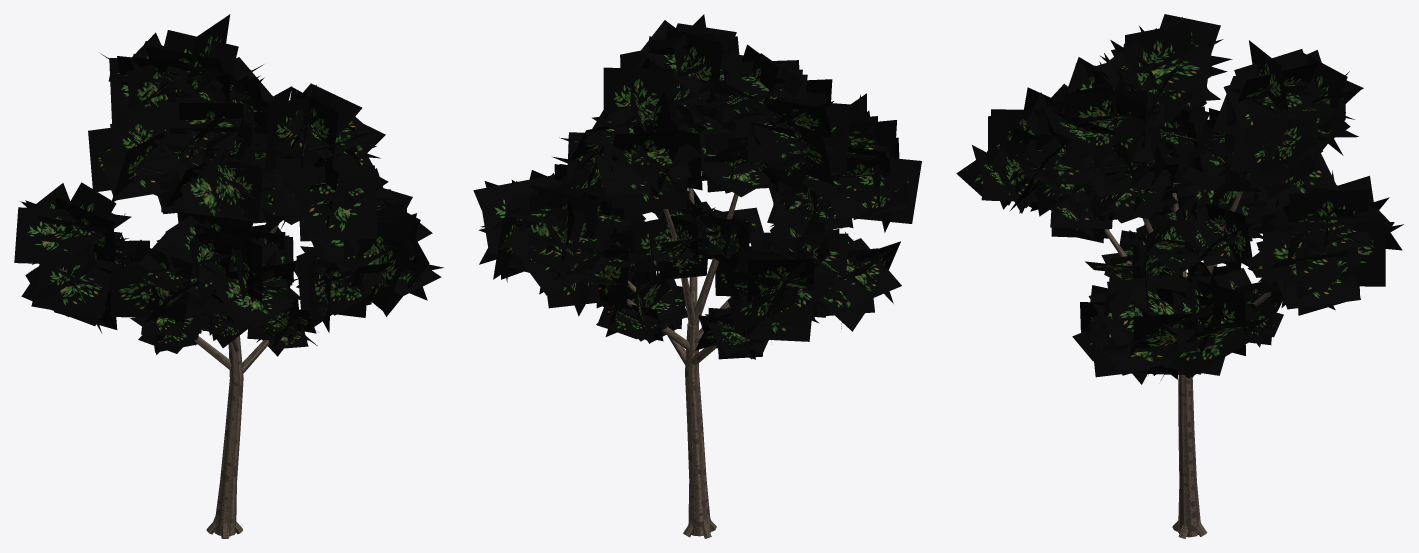
File: pohon_mahoni_super_besar.glb
The picture shows the model from 3 angles, left to right: view 1: azimuth 30°, elevation 25°; view 2: azimuth 150°, elevation 25°; view 3: azimuth 270°, elevation 25°; orthographic projection. The views are drawn at different scales.
Parts seen in each view (by area): view 1: Daun_Pinnate_Mahoni, Batang_Dan_Dahan_Mahoni; view 2: Daun_Pinnate_Mahoni, Batang_Dan_Dahan_Mahoni; view 3: Daun_Pinnate_Mahoni, Batang_Dan_Dahan_Mahoni.
Boxes of the visible parts, left/top/right/bottom form: Daun_Pinnate_Mahoni: left=14, top=14, right=443, bottom=356; Batang_Dan_Dahan_Mahoni: left=194, top=224, right=300, bottom=538; Daun_Pinnate_Mahoni: left=473, top=14, right=921, bottom=359; Batang_Dan_Dahan_Mahoni: left=627, top=188, right=738, bottom=538; Daun_Pinnate_Mahoni: left=956, top=14, right=1403, bottom=384; Batang_Dan_Dahan_Mahoni: left=1104, top=191, right=1271, bottom=538.
Bounding box in the file's own units: 11.42 × 12.94 × 10.67.
2 materials, 2 textured.
